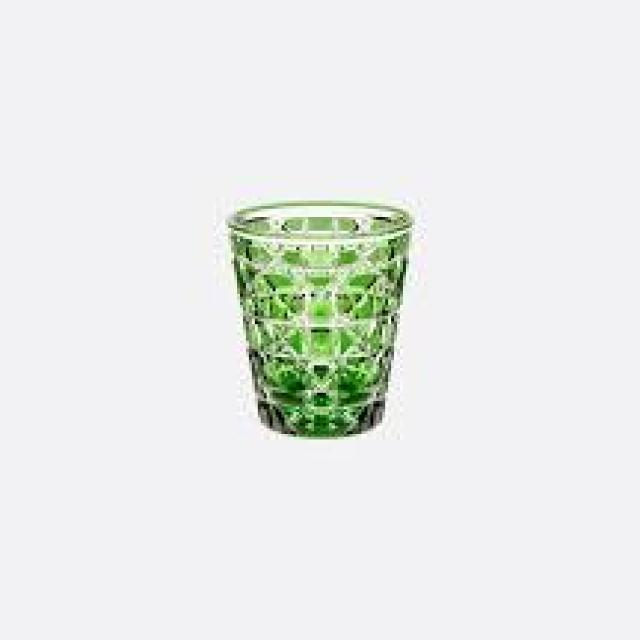glass: (225, 201, 412, 434)
